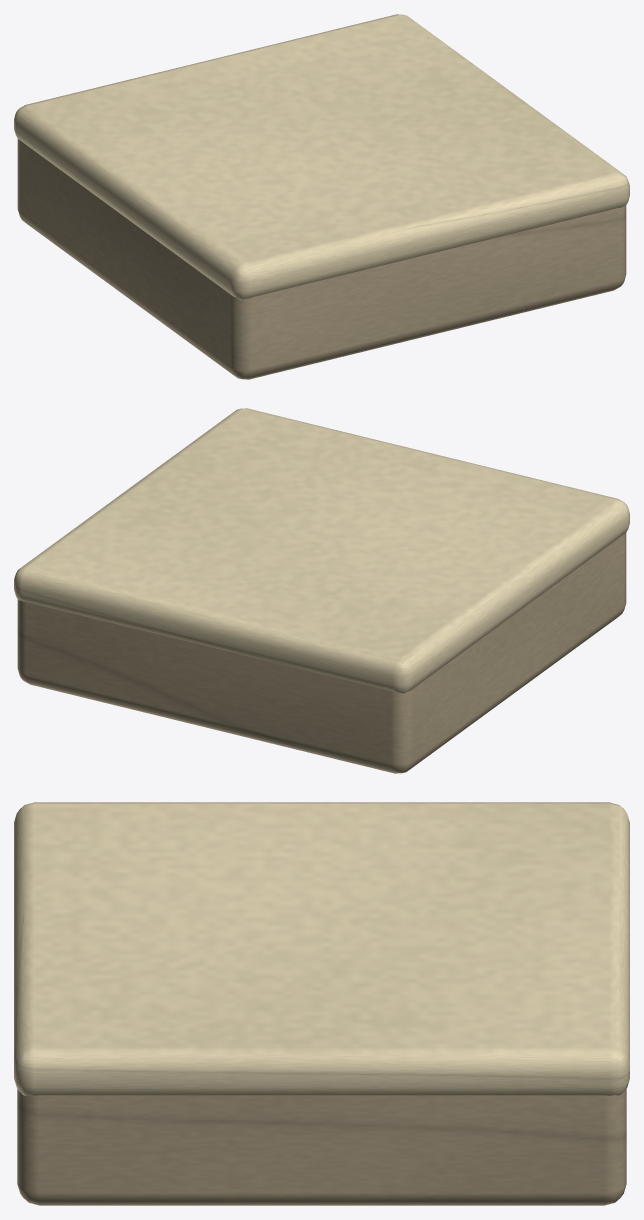
Rendered from tile_garden_cream.glb.
3 views of the same model, one above another, from view 1: azimuth 30°, elevation 25°; view 2: azimuth 150°, elevation 25°; view 3: azimuth 270°, elevation 25° (orthographic). The views are drawn at different scales.
Parts seen in each view (by area): view 1: tile_surface, tile_body; view 2: tile_surface, tile_body; view 3: tile_surface, tile_body.
Part boxes in pixels (left/top/right/bottom): tile_surface: left=14, top=14, right=629, bottom=299; tile_body: left=17, top=139, right=626, bottom=379; tile_surface: left=14, top=408, right=629, bottom=693; tile_body: left=17, top=533, right=626, bottom=773; tile_surface: left=14, top=802, right=629, bottom=1095; tile_body: left=17, top=1089, right=626, bottom=1205.
Size of the model in its own units: 0.97 by 0.275 by 0.97.
Materials: 2 (2 with a texture image).
